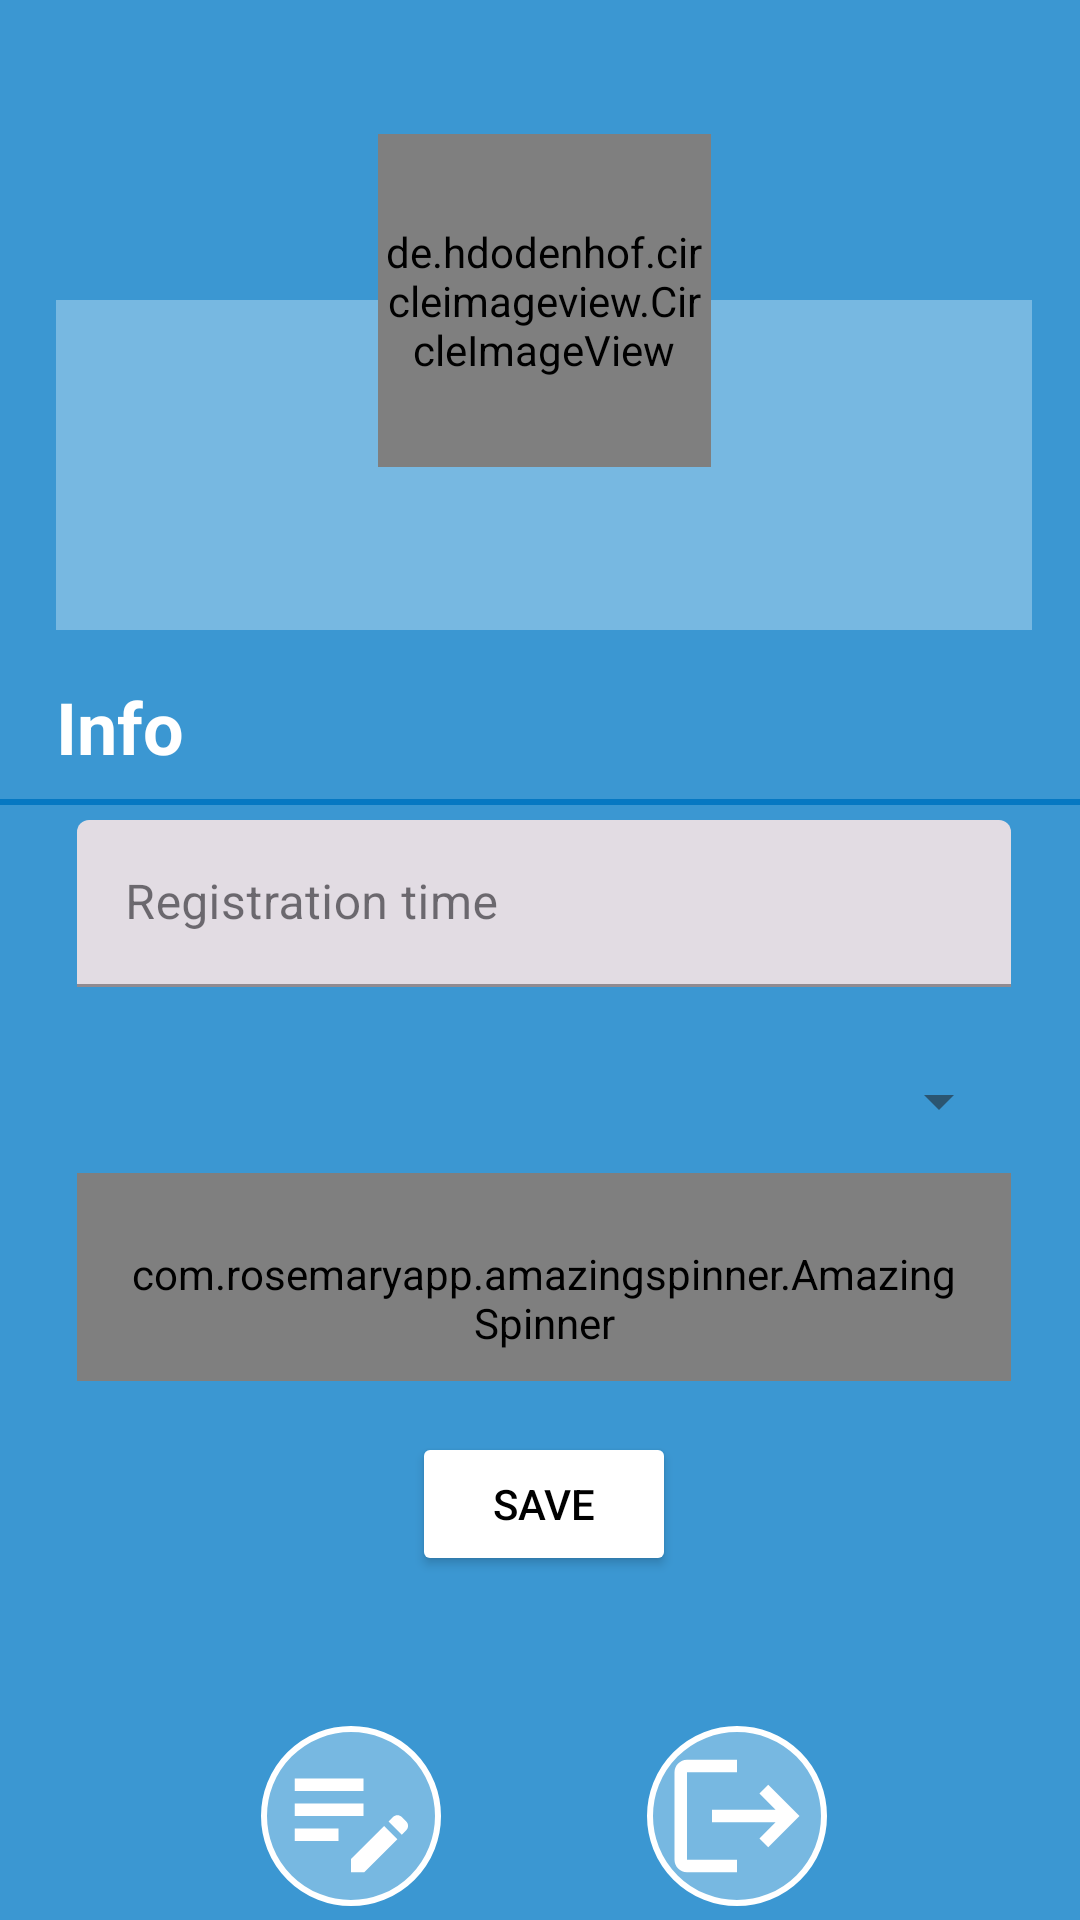

Where to tap for icons on this 1080×1920 app screen, as point (x, y):
Edit Profile: point (351, 1816)
